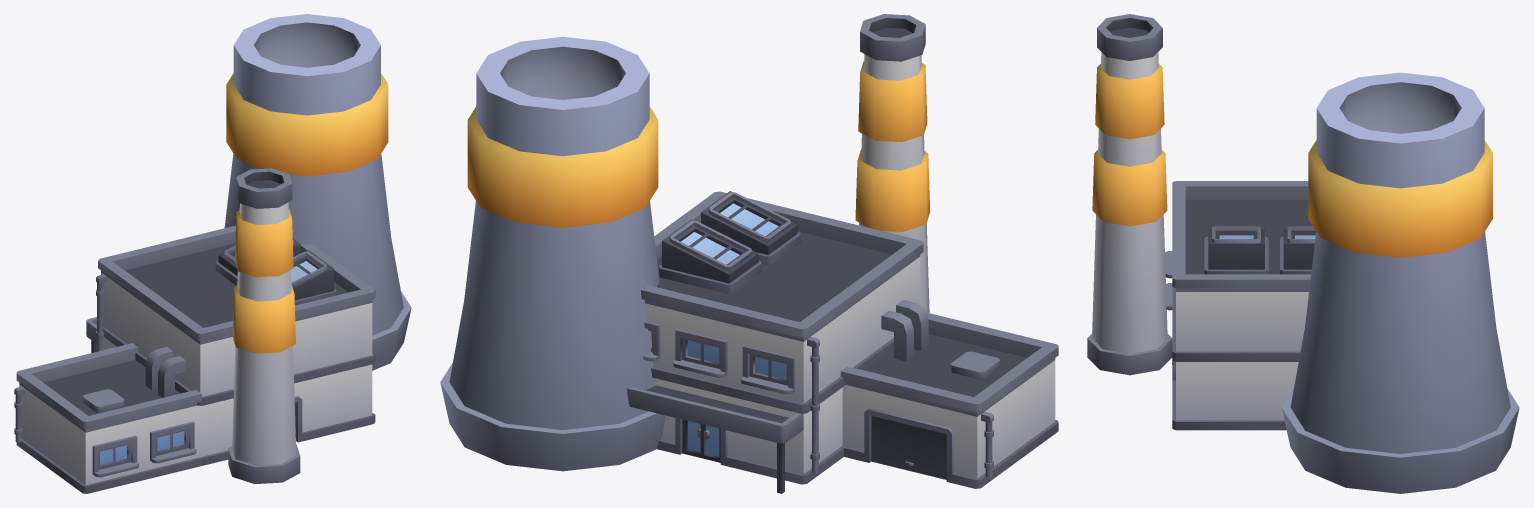
The model's file is power_station.glb.
The picture shows the model from 3 angles, left to right: view 1: azimuth 30°, elevation 25°; view 2: azimuth 150°, elevation 25°; view 3: azimuth 270°, elevation 25°; orthographic projection. The views are drawn at different scales.
Parts seen in each view (by area): view 1: power_station; view 2: power_station; view 3: power_station.
Boxes of the visible parts, left/top/right/bottom form: power_station: left=14, top=14, right=411, bottom=493; power_station: left=440, top=14, right=1058, bottom=493; power_station: left=1087, top=14, right=1519, bottom=493.
Size of the model in its own units: 35.12 by 23.8 by 27.47.
Materials: 3 (3 with a texture image).
